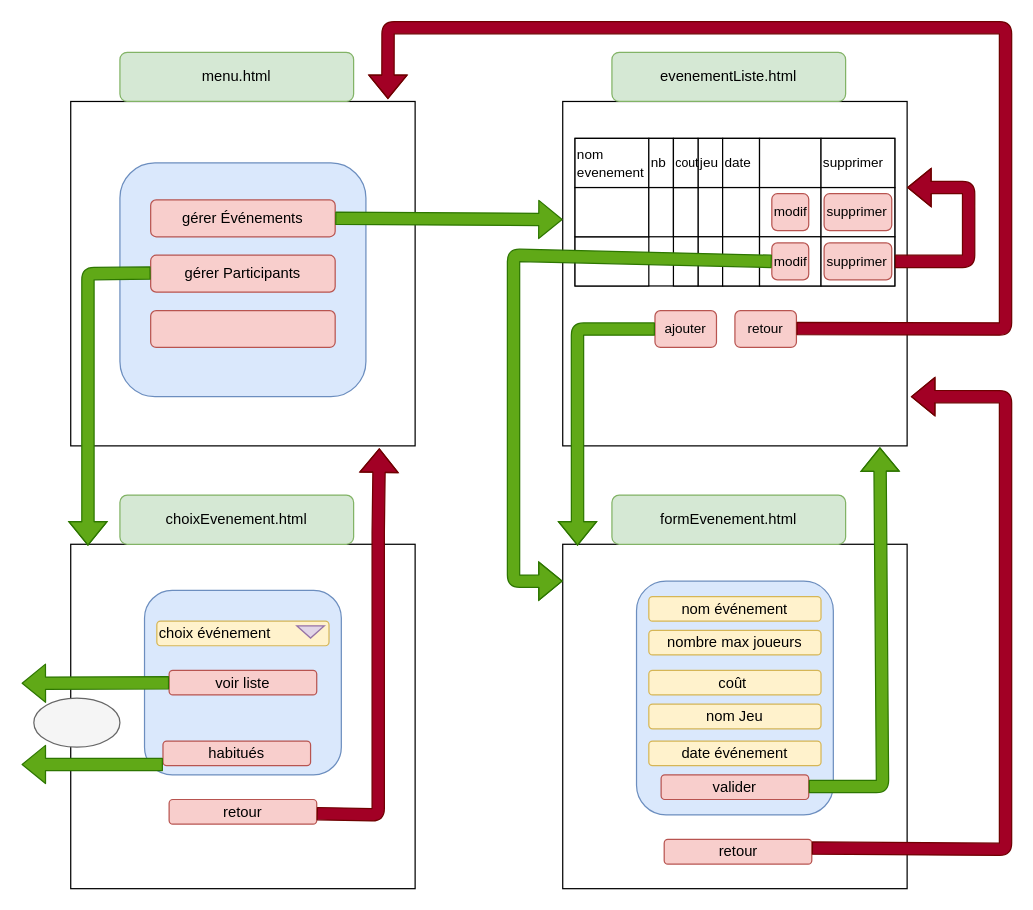
Some shapes in this 1033 by 910 pixel diagram are drawn without their labels. The centre of each missing label's shape, as x and y in pixels:
"Démarrer Tournois" belongs at pixel 242 328.
"modifier" belongs at pixel 789 162.
"page 3" belongs at pixel 76 722.
